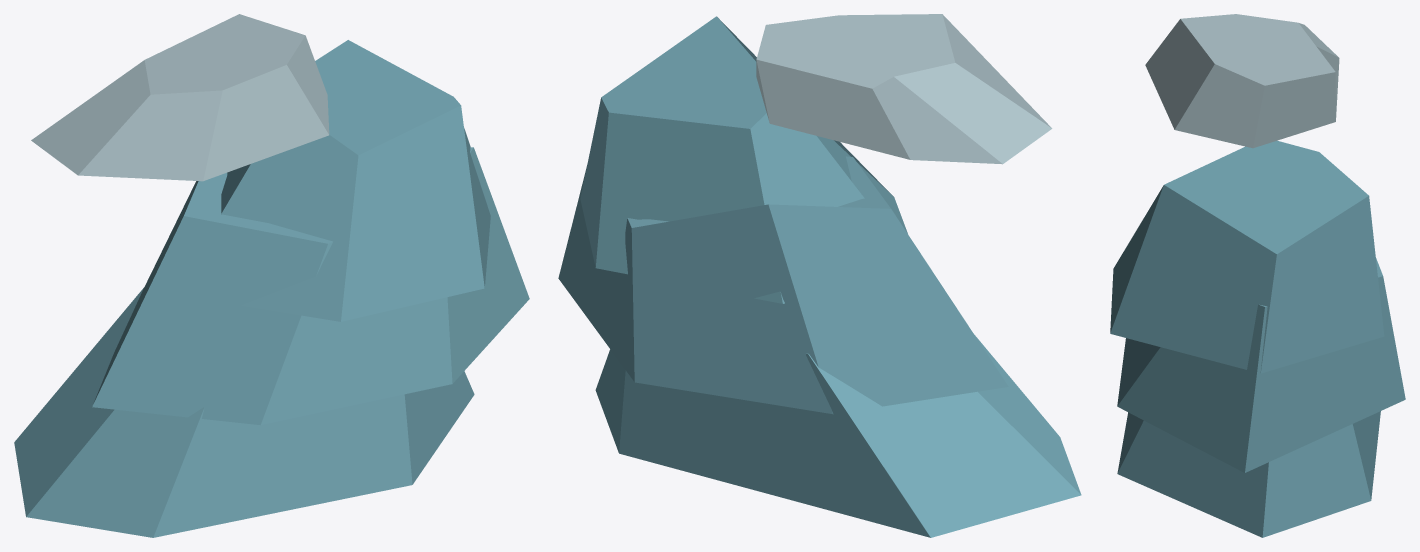
The model's file is map-boundaries-v5__frost_11.glb.
3 views of the same model, side by side, from view 1: azimuth 30°, elevation 25°; view 2: azimuth 150°, elevation 25°; view 3: azimuth 270°, elevation 25° (orthographic). The views are drawn at different scales.
Parts seen in each view (by area): view 1: frost_11; view 2: frost_11; view 3: frost_11.
Part boxes in pixels (x1=…): frost_11: x1=14, y1=14, x2=529, y2=537; frost_11: x1=558, y1=14, x2=1081, y2=537; frost_11: x1=1110, y1=14, x2=1405, y2=537.
Size of the model in its own units: 1.28 by 0.9835 by 0.6867.
